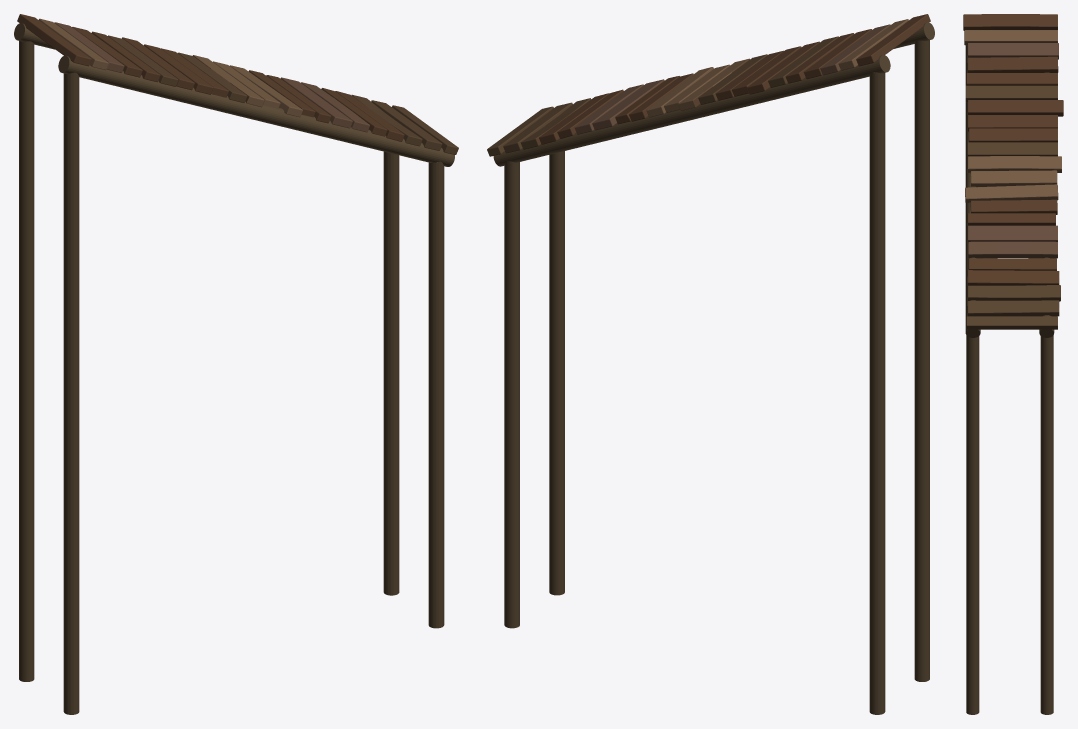
The model's file is DownHillRamp.fbx.
3 renders of one model, left to right at view 1: azimuth 30°, elevation 25°; view 2: azimuth 150°, elevation 25°; view 3: azimuth 270°, elevation 25°, orthographic. The views are drawn at different scales.
Parts seen in each view (by area): view 1: Cylinder.002, Planks; view 2: Cylinder.002, Planks; view 3: Planks, Cylinder.002.
Boxes of the visible parts, box(x1,y1,x2,y2) form: Cylinder.002: box(14, 23, 454, 714); Planks: box(17, 14, 458, 154); Cylinder.002: box(493, 22, 934, 714); Planks: box(487, 14, 930, 156); Planks: box(963, 14, 1063, 329); Cylinder.002: box(965, 45, 1054, 714).
Size of the model in its own units: 713 by 1145 by 189.
